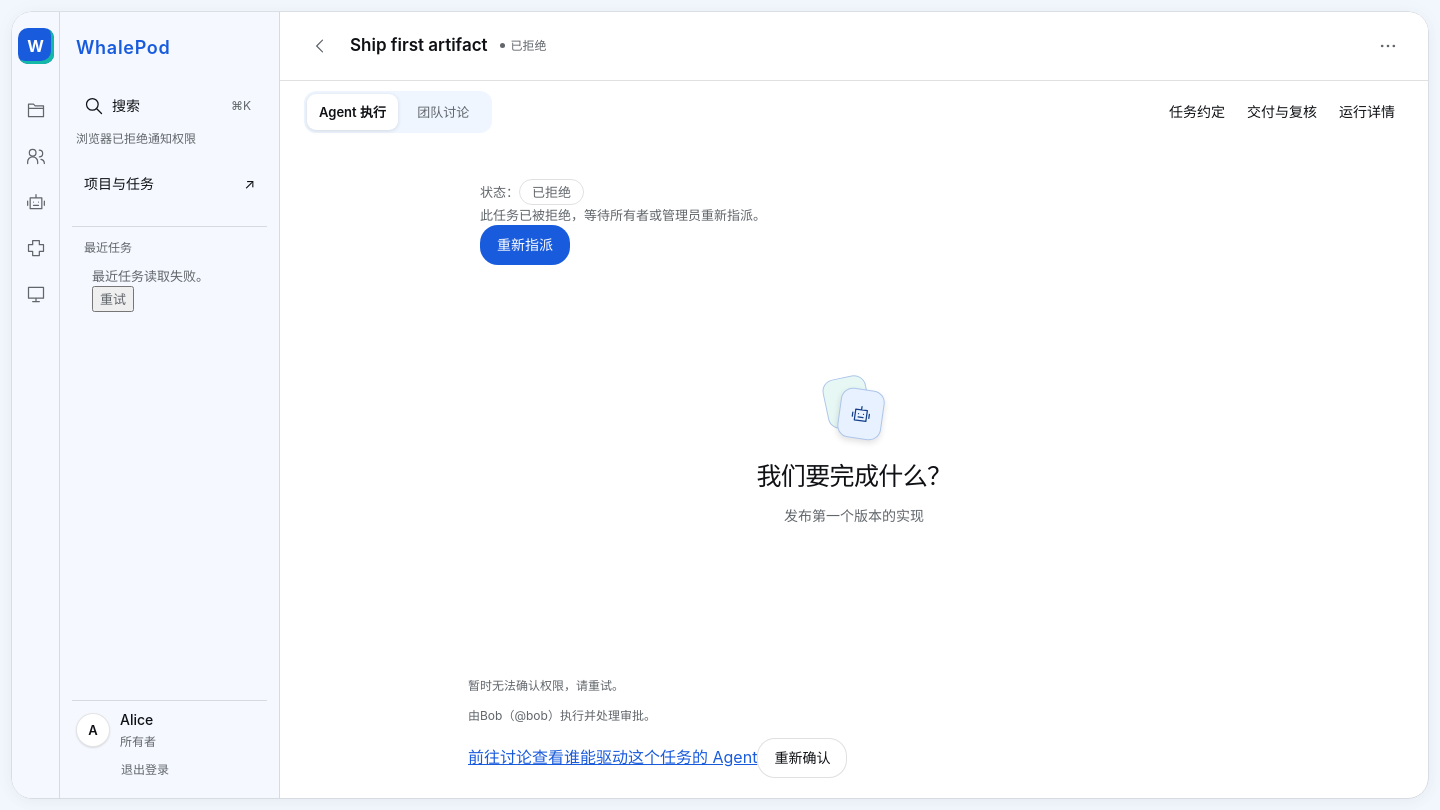
#314 拒绝后的重新指派 › 并发运行冲突后保留所选成员，提示处理方法
Click the button "重新指派": x=525, y=245 [480, 225, 570, 265]
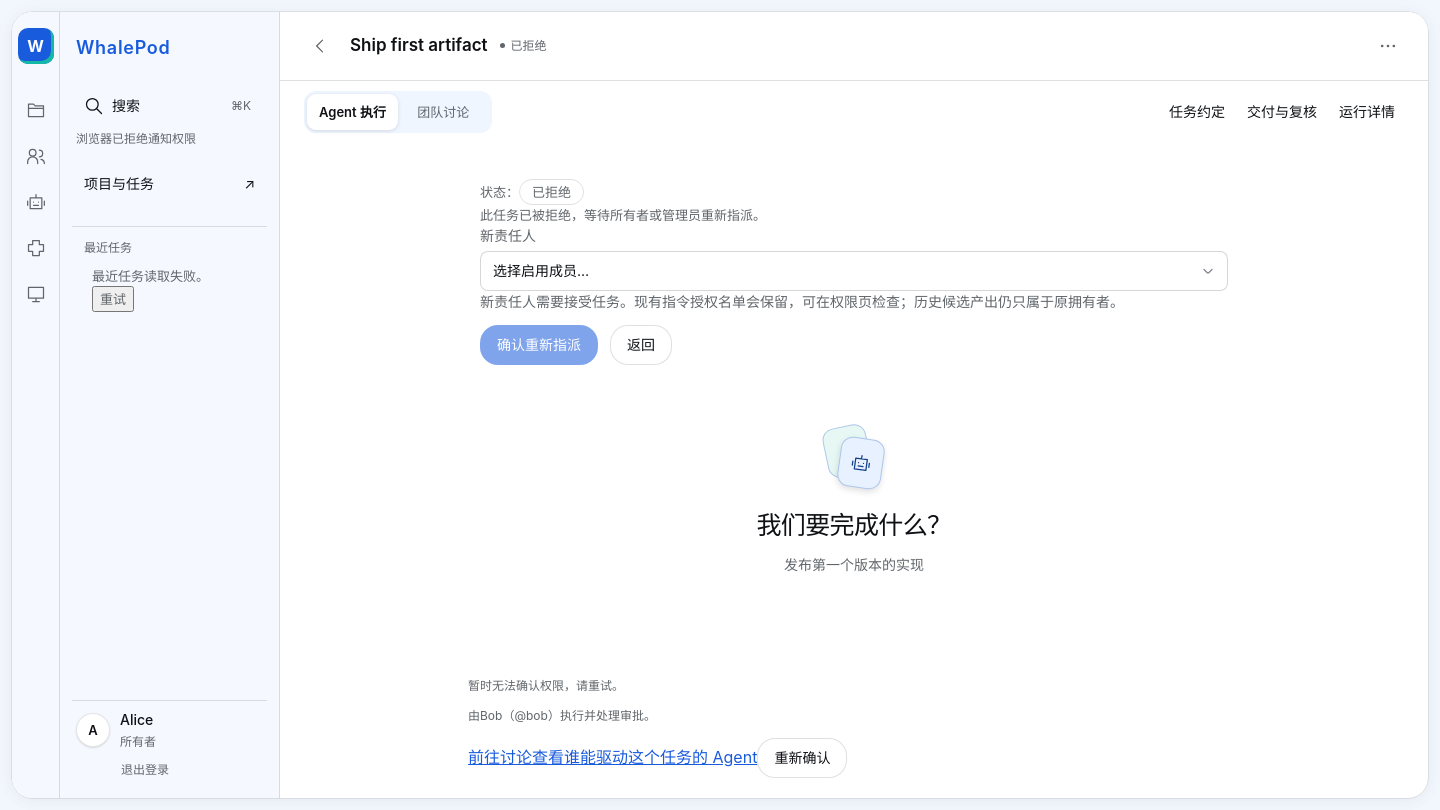
Click the button named "新责任人": x=541, y=271 [480, 251, 1228, 291]
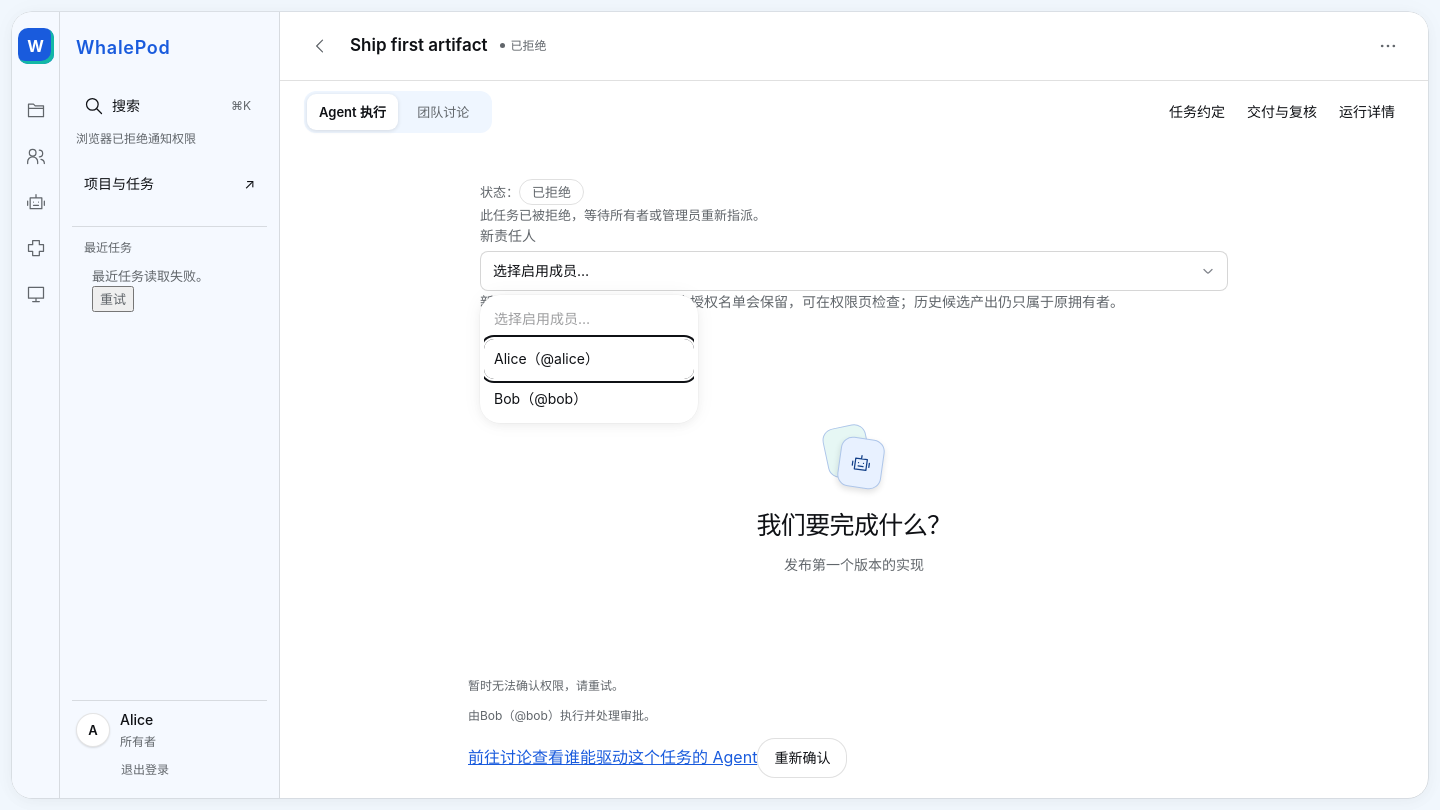
Click the menu item "Alice（@alice）": x=589, y=359 [484, 339, 694, 379]
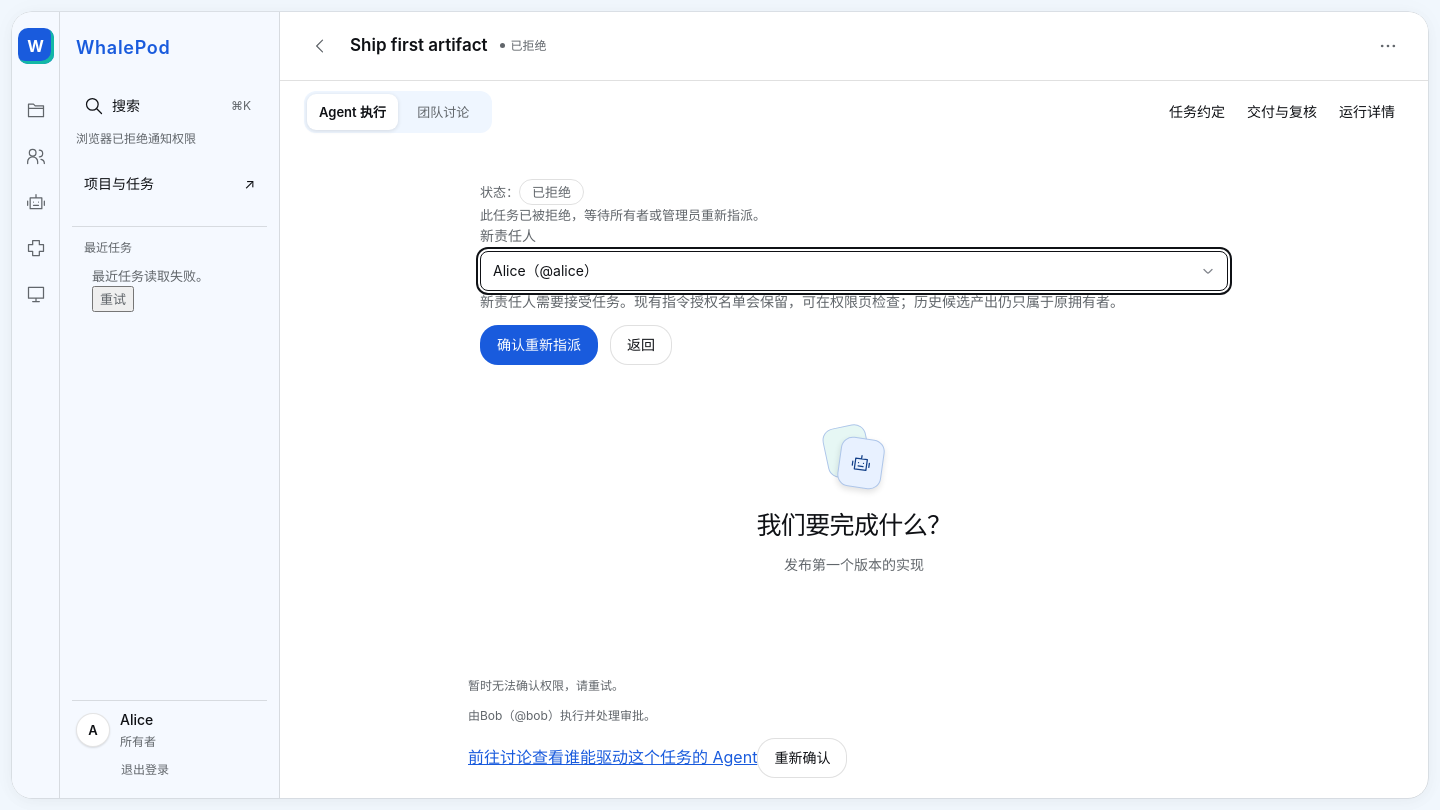
Click the button "确认重新指派": x=539, y=345 [480, 325, 598, 365]
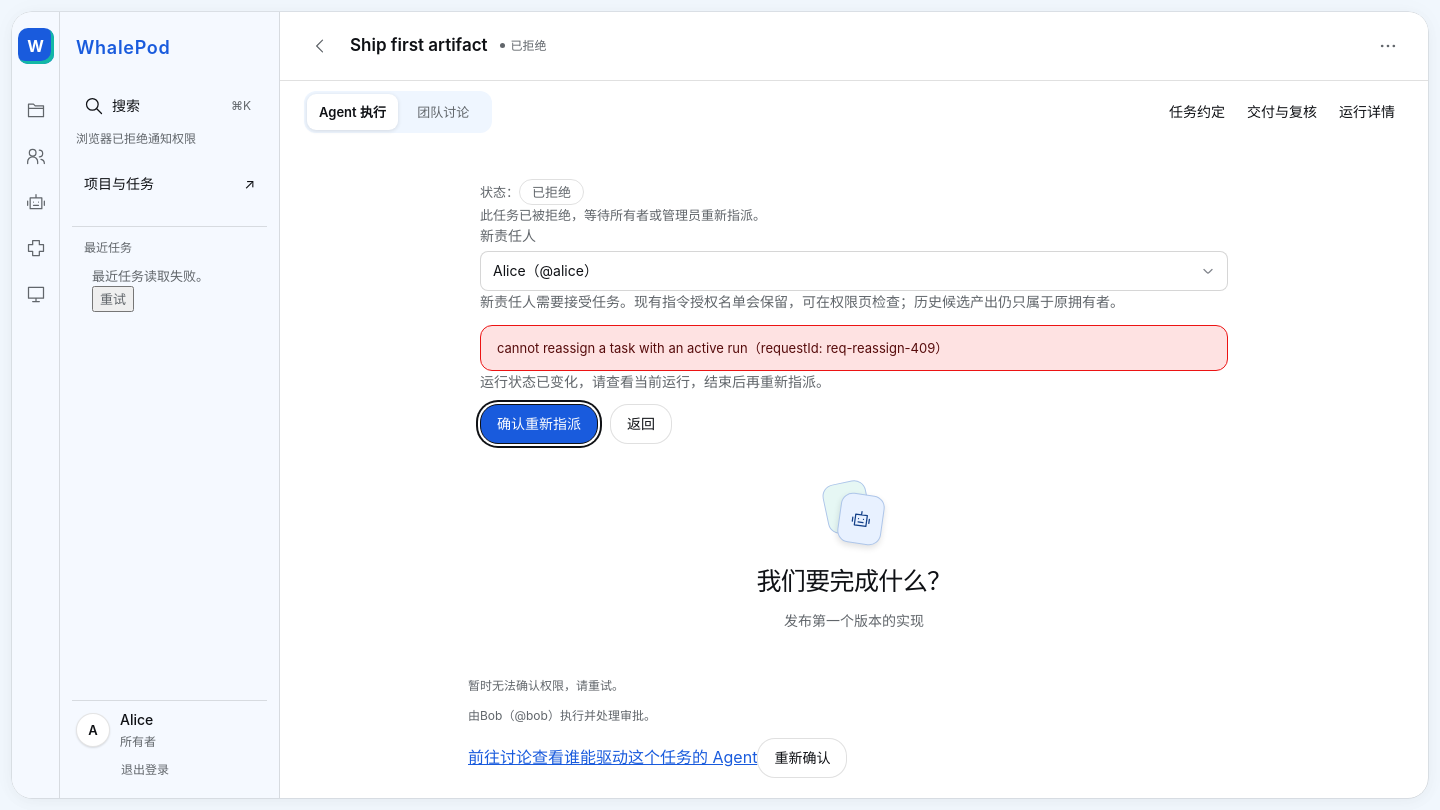
Now the button named "新责任人" shows "Alice", box [480, 251, 1228, 291]
Now the message "cannot reassign a task with an active run（requestId: req-reassign-409）" is shown, box [480, 325, 1228, 371]
Now the text "运行状态已变化，请查看当前运行，结束后再重新指派。" is shown, box [480, 373, 830, 390]
